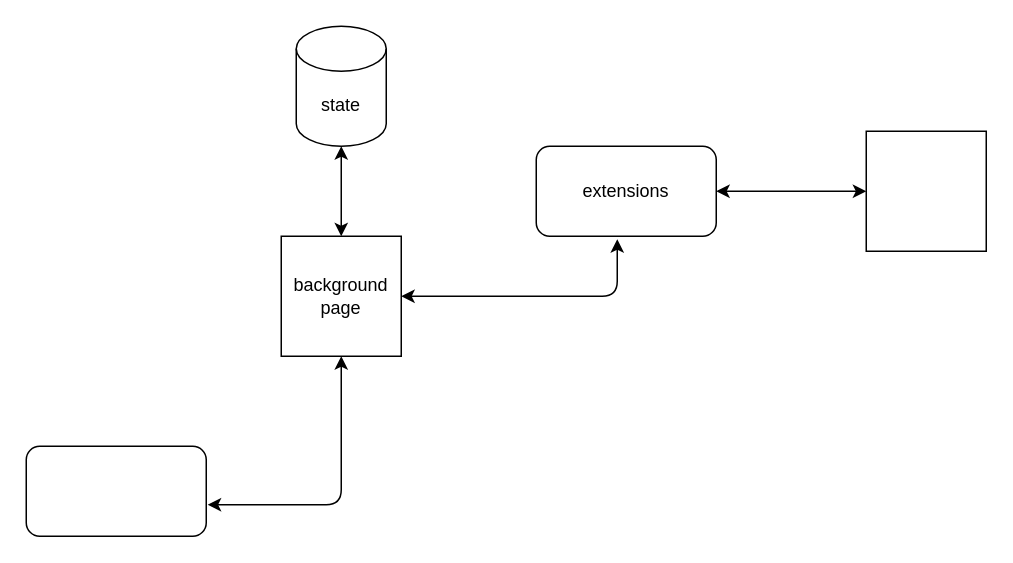
Image size: 1013x563. Some labels were removed from this diagram. The shapes that lost their labels are listed below. From the top down, each one's box as (x1, y1, x2, y2) in pixels, then its label:
(865, 130, 986, 251): popup
(25, 445, 206, 536): dApp
